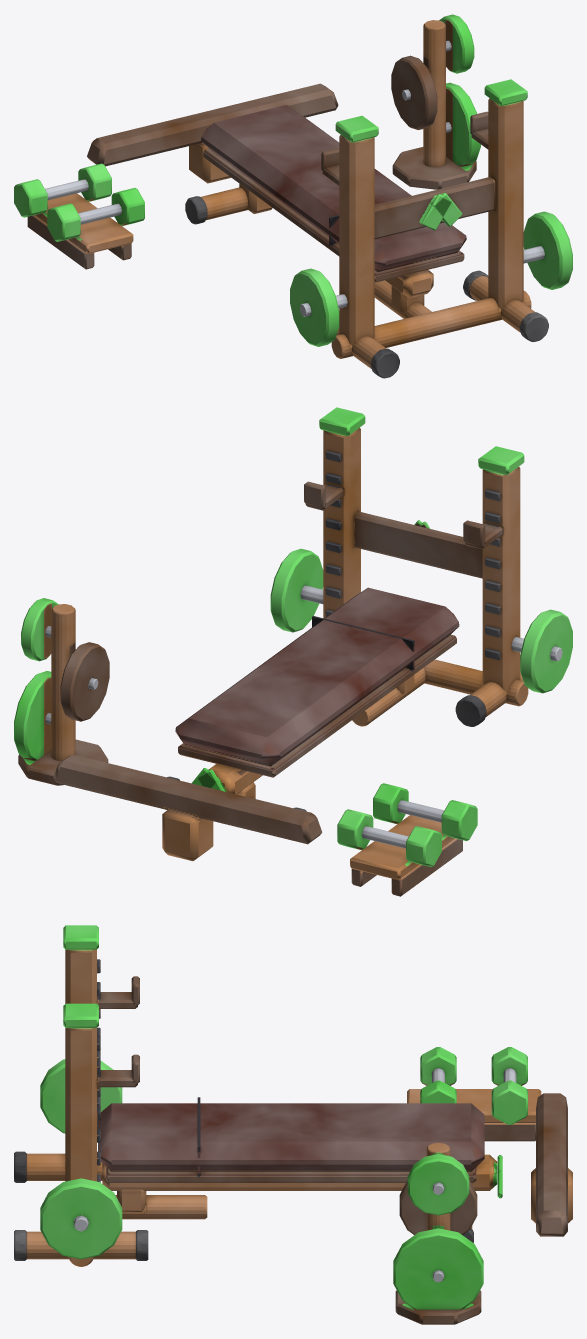
File: Bench_Bois_Rig.fbx
3 renders of one model, top to bottom at view 1: azimuth 30°, elevation 25°; view 2: azimuth 150°, elevation 25°; view 3: azimuth 270°, elevation 25°, orthographic. The views are drawn at different scales.
Parts seen in each view (by area): view 1: Rack, Weights, Bench; view 2: Rack, Weights, Bench; view 3: Bench, Weights, Rack.
Boxes of the visible parts, x1,y1,x2,y2 form: Rack: [290, 79, 572, 378]; Weights: [14, 14, 480, 269]; Bench: [185, 105, 466, 298]; Rack: [270, 407, 572, 726]; Weights: [14, 598, 477, 896]; Bench: [167, 587, 459, 811]; Bench: [98, 1097, 502, 1242]; Weights: [393, 1047, 572, 1324]; Rack: [14, 925, 207, 1266].
Size of the model in its own units: 11.23 by 6 by 12.2.
Materials: 1 (1 with a texture image).
